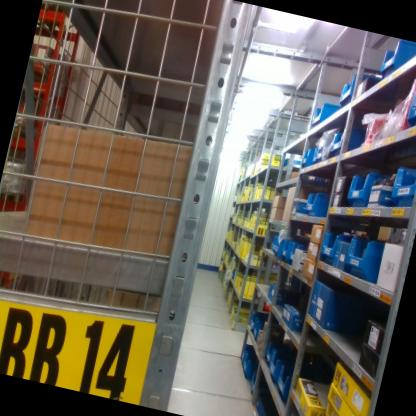pallet: (35, 0, 74, 41), (0, 188, 25, 211)
